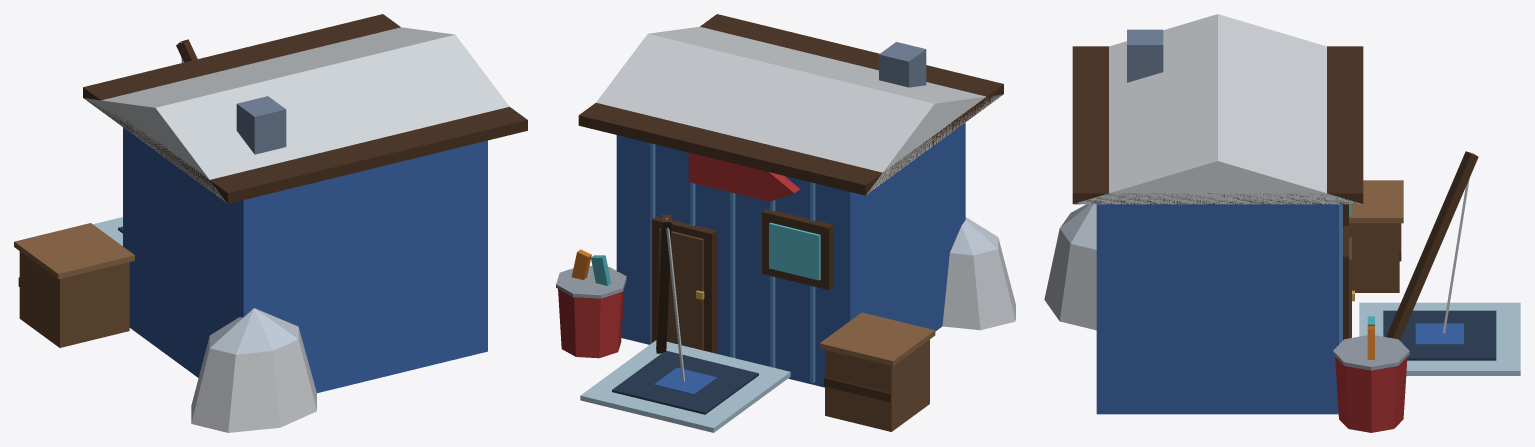
File: Decor_IcePalace_FishHut.fbx
The picture shows the model from 3 angles, left to right: view 1: azimuth 30°, elevation 25°; view 2: azimuth 150°, elevation 25°; view 3: azimuth 270°, elevation 25°; orthographic projection. The views are drawn at different scales.
Visible parts, largest first — view 1: FishHut_Body; view 2: FishHut_Body; view 3: FishHut_Body.
Part boxes in pixels (x1=…): FishHut_Body: x1=14, y1=14, x2=527, y2=432; FishHut_Body: x1=556, y1=14, x2=1015, y2=432; FishHut_Body: x1=1044, y1=14, x2=1520, y2=432.
Size of the model in its own units: 10.2 by 7.4 by 11.5.
